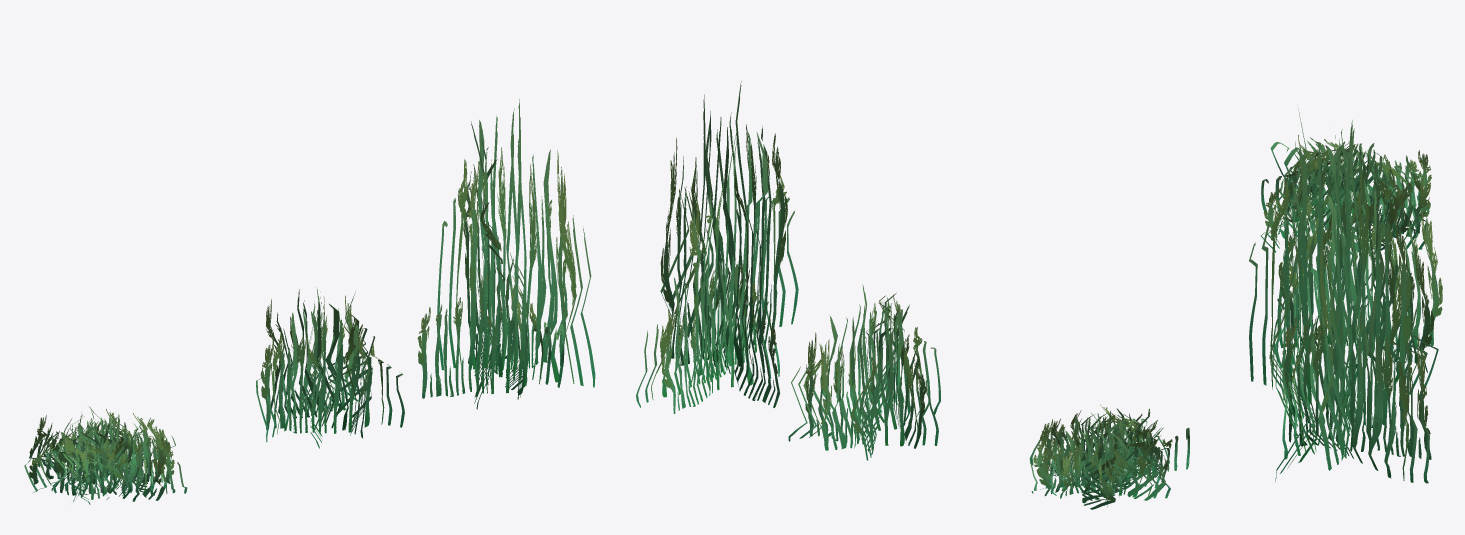
The model's file is GrassPatches_Prototype.fbx.
The picture shows the model from 3 angles, left to right: view 1: azimuth 30°, elevation 25°; view 2: azimuth 150°, elevation 25°; view 3: azimuth 270°, elevation 25°; orthographic projection. The views are drawn at different scales.
Visible parts, largest first — view 1: TallGrass, MidSizedGrass, SmallGrass; view 2: TallGrass, MidSizedGrass, SmallGrass; view 3: TallGrass, MidSizedGrass, SmallGrass.
Part boxes in pixels (x1,y1,x2,y2): TallGrass: (417,99,595,409); MidSizedGrass: (256,287,404,448); SmallGrass: (24,406,187,504); TallGrass: (636,81,798,413); MidSizedGrass: (788,285,940,460); SmallGrass: (1029,404,1189,509); TallGrass: (1249,107,1431,483); MidSizedGrass: (1274,187,1442,396); SmallGrass: (1261,137,1431,265).
Size of the model in its own units: 864 by 598 by 255.
1 material, 1 textured.
